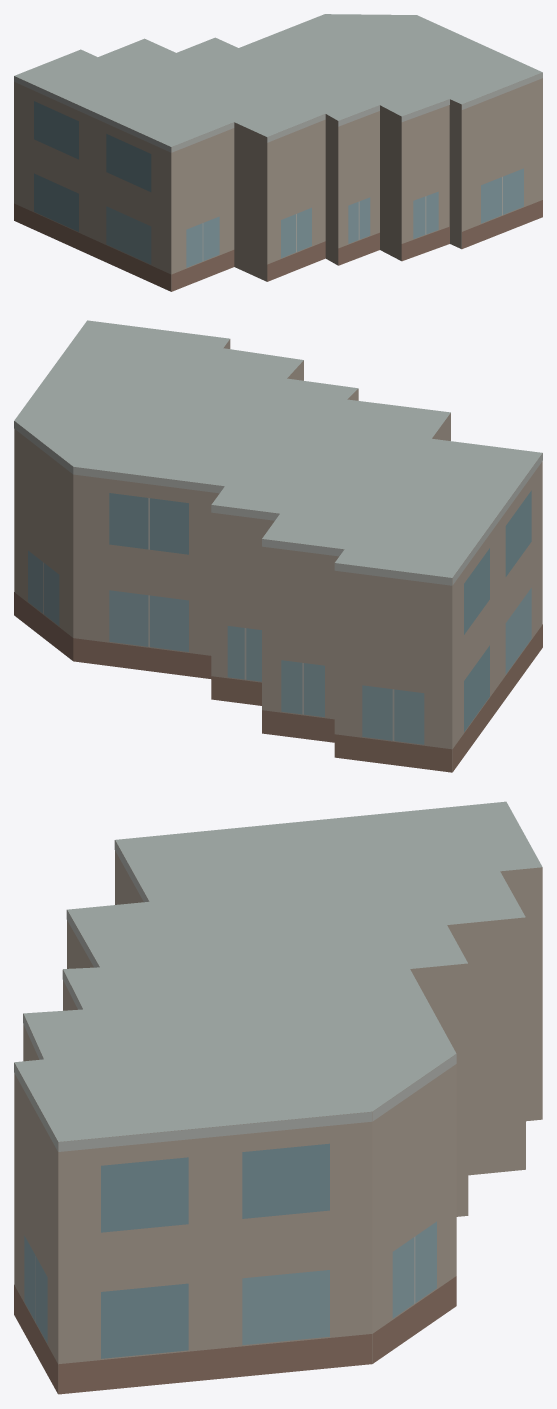
The model's file is survey-upis-32807124.glb.
The picture shows the model from 3 angles, top to bottom: view 1: azimuth 30°, elevation 25°; view 2: azimuth 150°, elevation 25°; view 3: azimuth 270°, elevation 25°; orthographic projection. The views are drawn at different scales.
Visible parts, largest first — view 1: survey-upis-32807124.tmp; view 2: survey-upis-32807124.tmp; view 3: survey-upis-32807124.tmp.
Part boxes in pixels (x1,y1,x2,y2): survey-upis-32807124.tmp: (14,14,542,291); survey-upis-32807124.tmp: (14,320,542,772); survey-upis-32807124.tmp: (14,801,542,1394).
Size of the model in its own units: 17.66 by 6.1 by 11.59.
